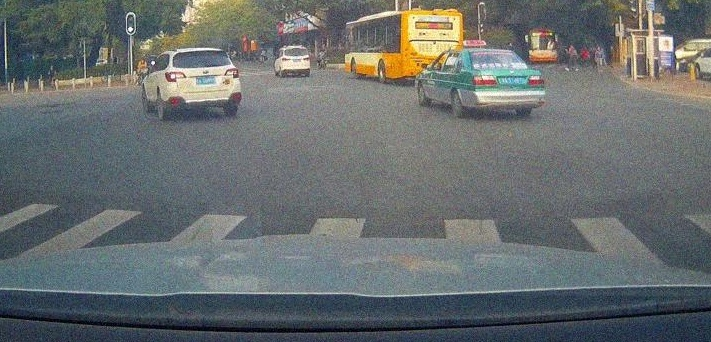L_light: (472, 75, 497, 85), (165, 72, 187, 83), (282, 58, 290, 61)
R_light: (527, 75, 544, 85), (224, 68, 239, 78), (303, 57, 310, 60)
T_light: (487, 52, 498, 55), (197, 51, 207, 53), (293, 48, 300, 50)
day-left: (164, 48, 242, 120)
day-no: (468, 48, 545, 118), (282, 46, 310, 77)
